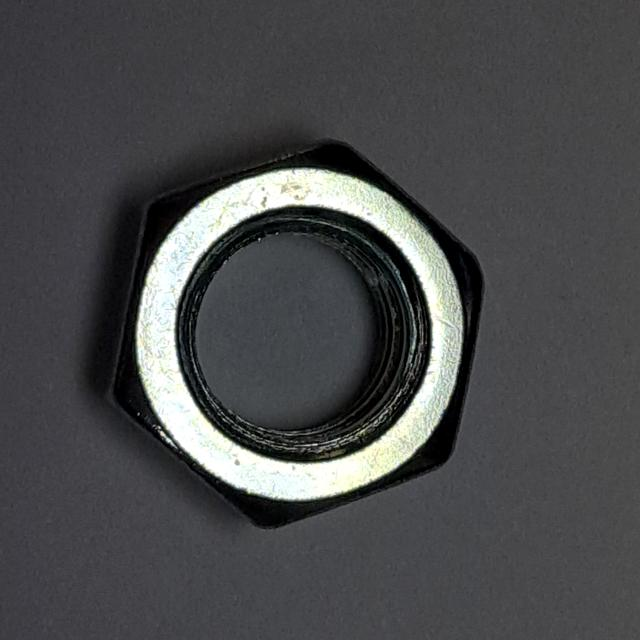Excellent: (83, 126, 499, 545)
